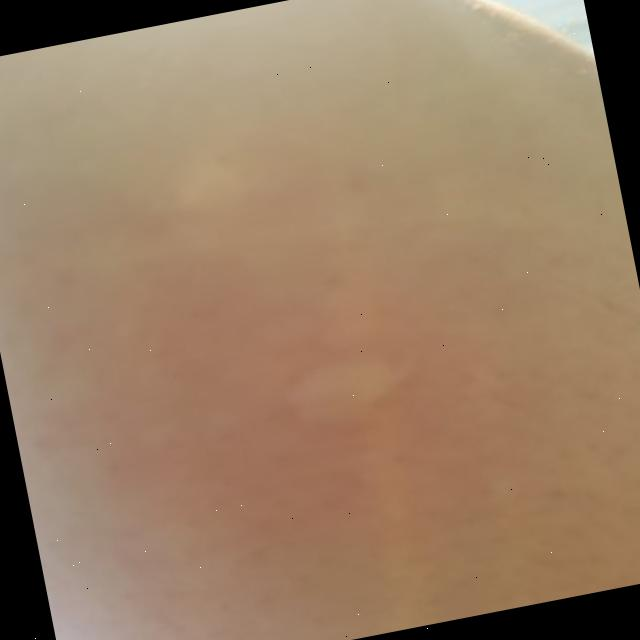sinek: (225, 314, 469, 508)
